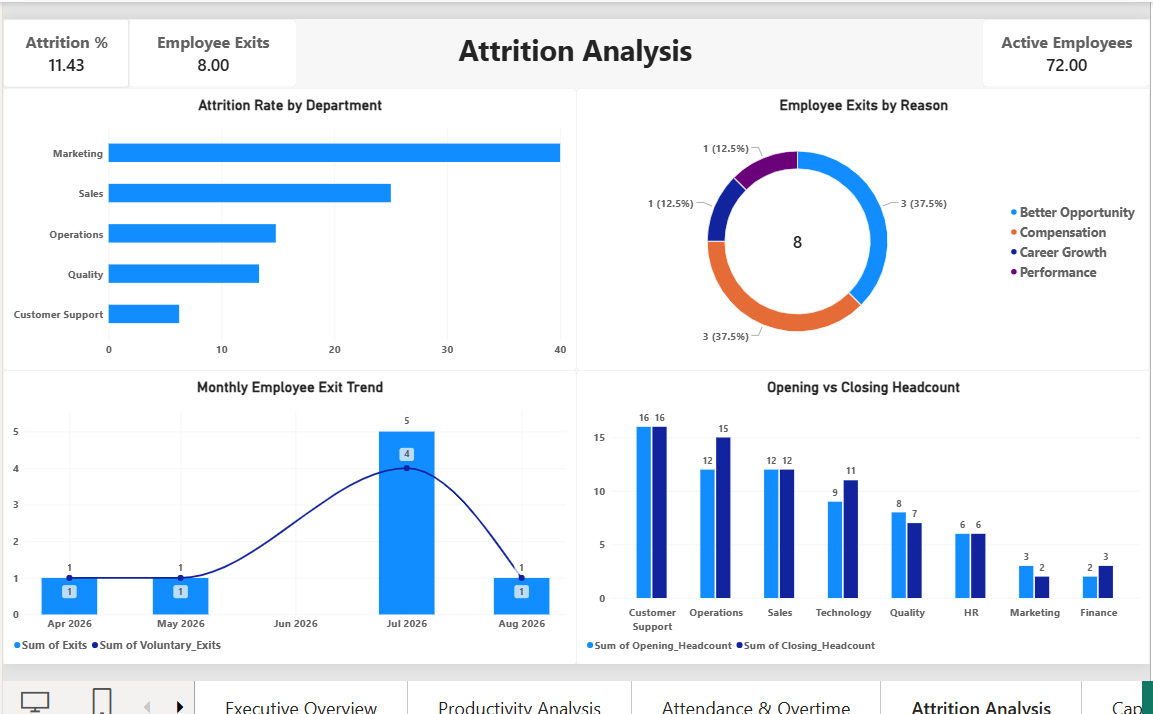

Layout of this report page (visuals, bound fields, positions):
{"tool":"powerbi","page":{"name":"Attrition Analysis","canvas":[1920,1080],"ordinal":3},"visuals":[{"type":"cardVisual","fields":{"Data":["executive_kpi_summary.Attrition %"]},"box":[0,0,211,114.2],"z":0},{"type":"cardVisual","fields":{"Data":["executive_kpi_summary.Employee Exits"]},"box":[211,0,280.6,114.2],"z":1000},{"type":"cardVisual","fields":{"Data":["executive_kpi_summary.Active Employees"]},"box":[1638.6,0,280.6,114.2],"z":2000},{"type":"clusteredBarChart","title":"Attrition Rate by Department","fields":{"Category":["department_attrition_analysis.Department"],"Y":["Sum(department_attrition_analysis.Attrition_Percentage)"]},"box":[0,114.5,959.1,472.4],"z":2001},{"type":"lineClusteredColumnComboChart","title":"Monthly Employee Exit Trend","fields":{"Y":["Sum(monthly_attrition_analysis.Exits)"],"Y2":["Sum(monthly_attrition_analysis.Voluntary_Exits)"],"Category":["monthly_attrition_analysis.Month"]},"box":[0,586.9,959.1,493.9],"z":2002},{"type":"donutChart","title":"Employee Exits by Reason","fields":{"Category":["exit_reason_analysis.Exit_Reason"],"Y":["Sum(exit_reason_analysis.Exit_Count)"]},"box":[959.1,114.5,961.5,472.4],"z":2003},{"type":"clusteredColumnChart","title":"Opening vs Closing Headcount","fields":{"Category":["department_attrition_analysis.Department"],"Y":["Sum(department_attrition_analysis.Opening_Headcount)","Sum(department_attrition_analysis.Closing_Headcount)"]},"box":[959,587,961,493],"z":2004},{"type":"textbox","box":[668.1,0,579.8,114.5],"z":2005}]}

Visuals, with their boxes on the page's 1920x1080 design canvas (x1, y1, x2, y2). These are canvas units, not pixel positions in the 1153x714 screenshot, which may show the page scaled, cropped or inside an application window:
cardVisual - executive_kpi_summary.Attrition %: l=0, t=0, r=211, b=114
cardVisual - executive_kpi_summary.Employee Exits: l=211, t=0, r=492, b=114
cardVisual - executive_kpi_summary.Active Employees: l=1639, t=0, r=1919, b=114
"Attrition Rate by Department" clusteredBarChart: l=0, t=114, r=959, b=587
"Monthly Employee Exit Trend" lineClusteredColumnComboChart: l=0, t=587, r=959, b=1081
"Employee Exits by Reason" donutChart: l=959, t=114, r=1921, b=587
"Opening vs Closing Headcount" clusteredColumnChart: l=959, t=587, r=1920, b=1080
textbox: l=668, t=0, r=1248, b=114
